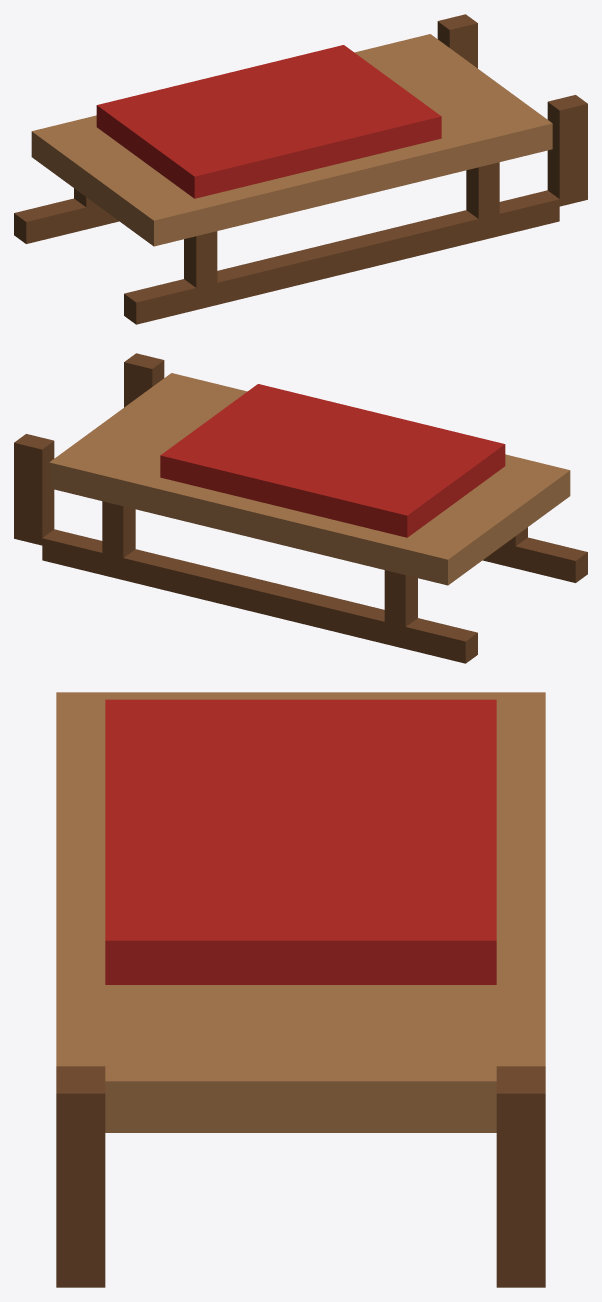
Rendered from ntu-sled.glb.
3 renders of one model, top to bottom at view 1: azimuth 30°, elevation 25°; view 2: azimuth 150°, elevation 25°; view 3: azimuth 270°, elevation 25°, orthographic. The views are drawn at different scales.
Parts seen in each view (by area): view 1: box-prop; view 2: box-prop; view 3: box-prop.
Part boxes in pixels (bbox=[...]): box-prop: bbox=[14, 14, 587, 324]; box-prop: bbox=[14, 353, 587, 663]; box-prop: bbox=[56, 692, 545, 1287].
Bounding box in the file's own units: 1.28 × 0.33 × 0.6.
